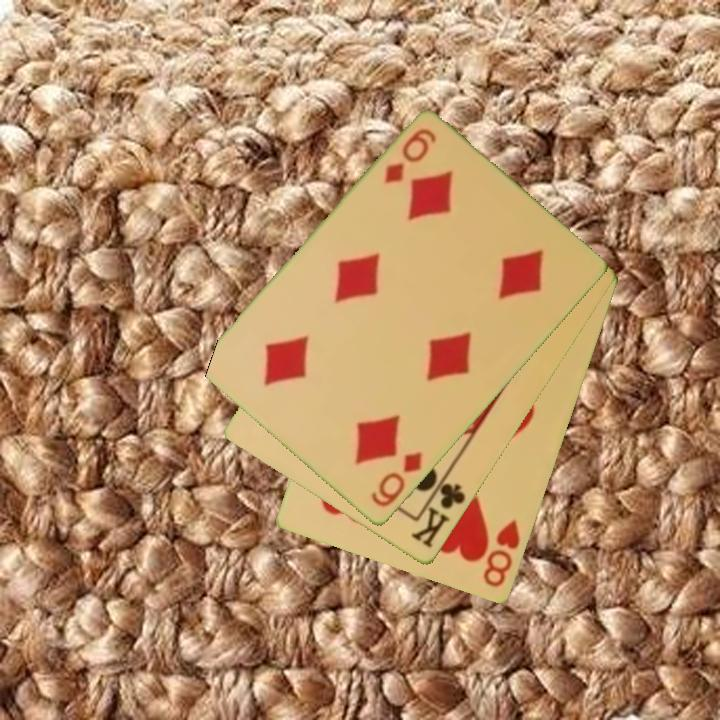6d: (380, 125, 440, 188), (368, 448, 425, 511)
8h: (479, 517, 524, 591)
Kc: (407, 470, 469, 552)
